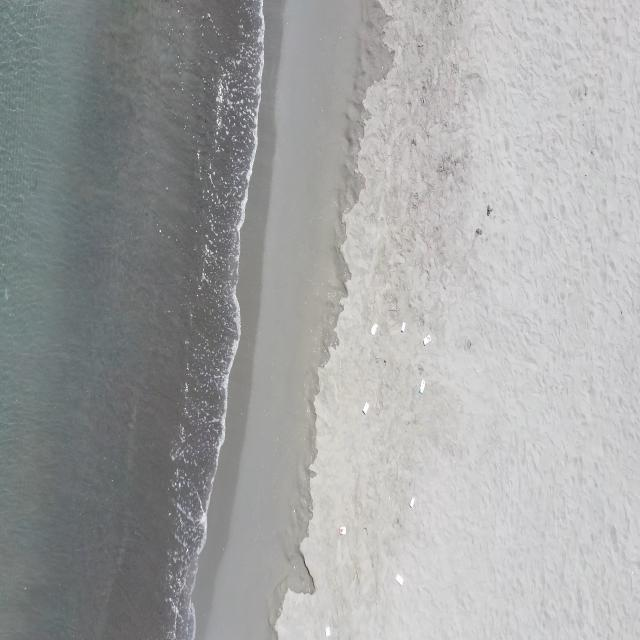Garbage: (369, 324, 377, 335), (395, 573, 403, 584), (408, 495, 415, 507), (337, 526, 346, 535), (423, 335, 431, 344), (324, 626, 331, 636), (419, 380, 424, 392), (362, 404, 368, 413), (400, 322, 403, 332)
